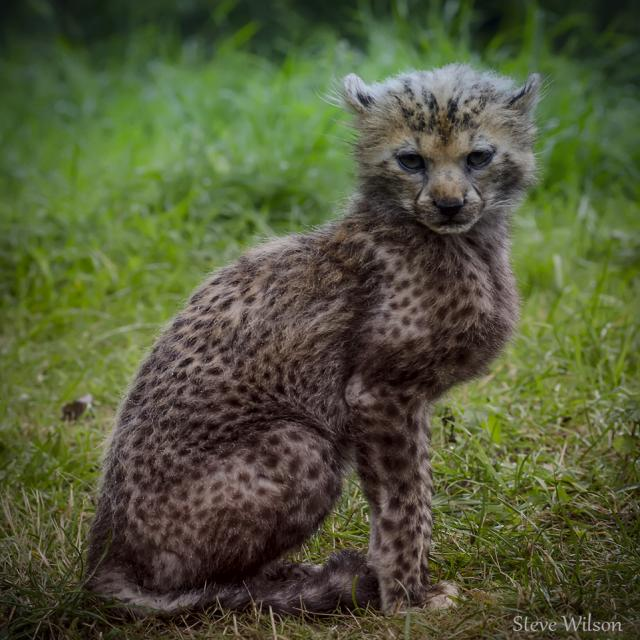Cheetah: (81, 61, 556, 620)
